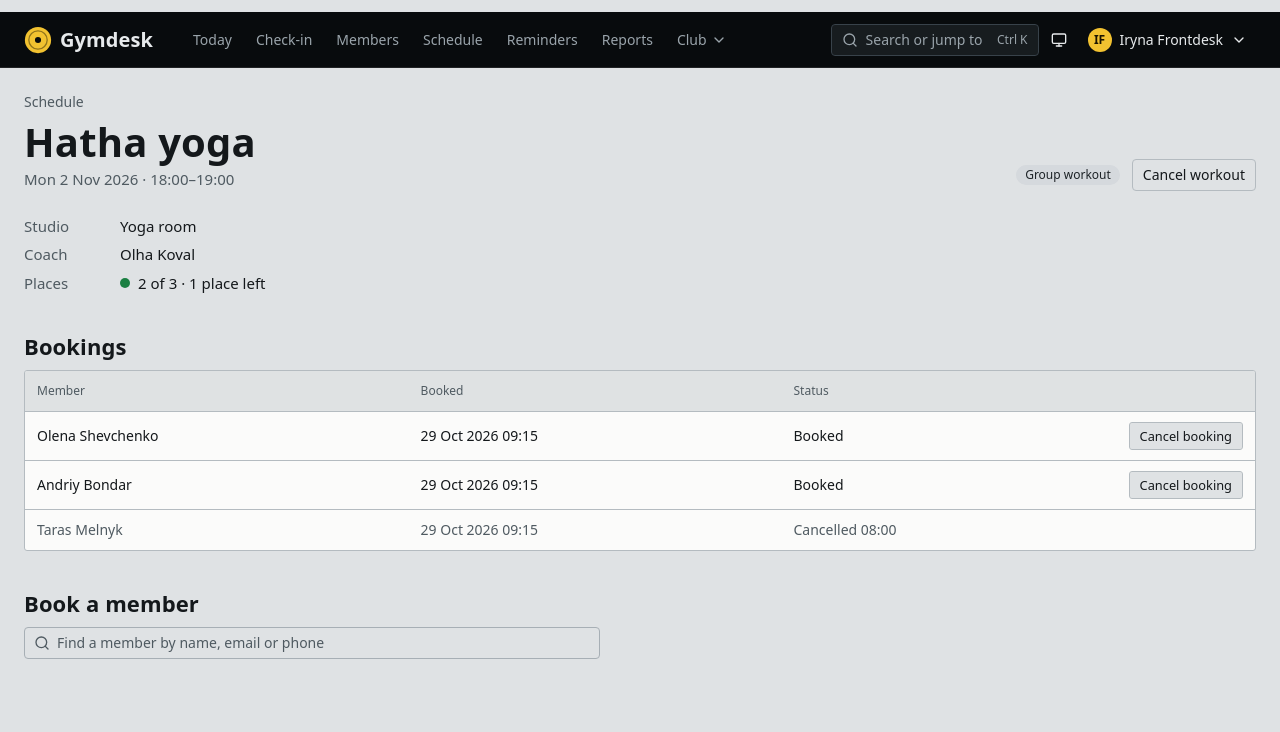
booking a member › finds a member and books them
This screenshot has width=1280, height=732.
Check: the heading "Hatha yoga" is shown, box 24,120 -> 256,164
In the search field labelled "Find a member": point(312, 643) 24,627 -> 600,659, type "kateryna"
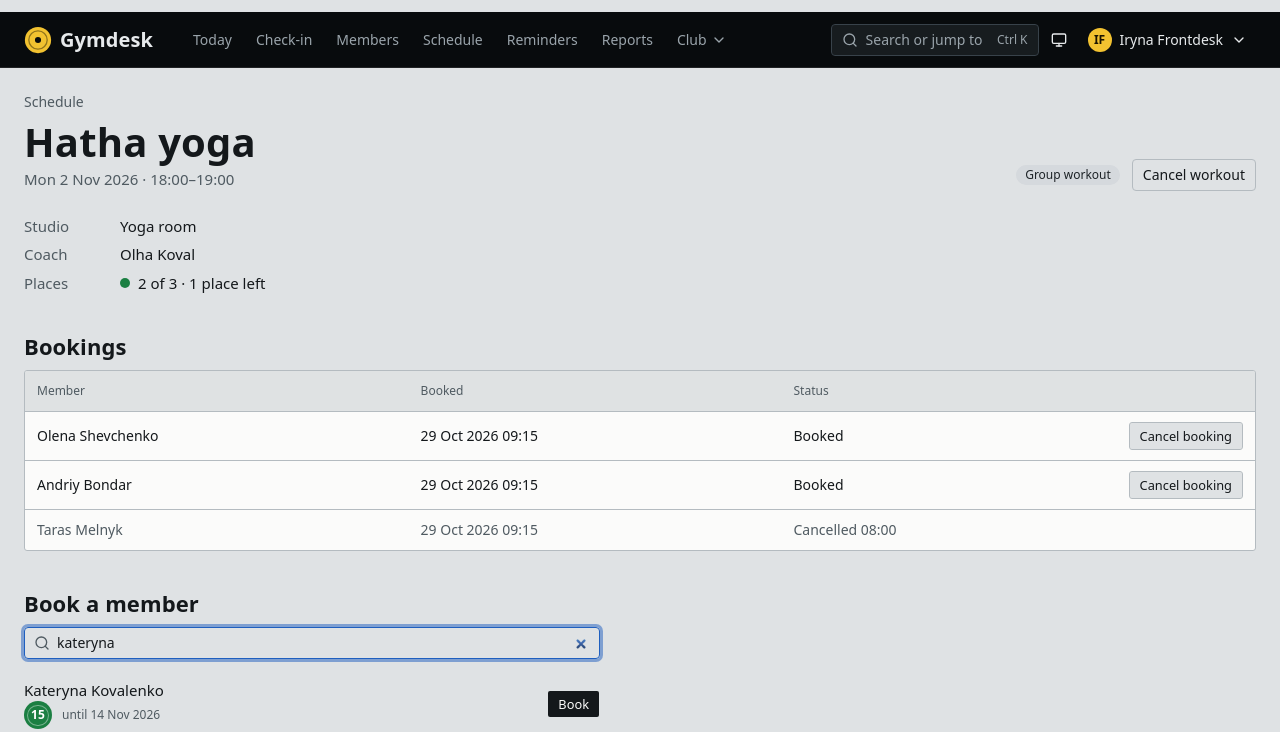
Click the button with aria-label "Book Kateryna Kovalenko": point(574, 704) 547,690 -> 600,718
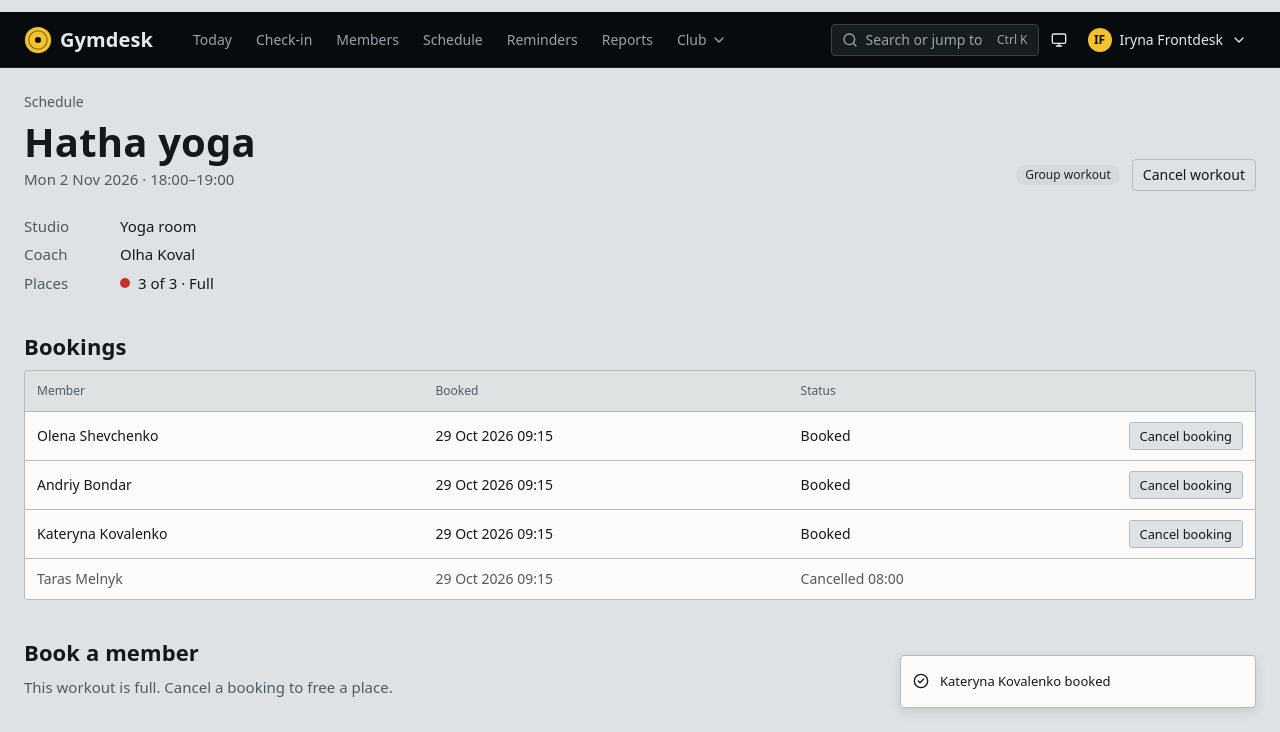
Check: the text "Kateryna Kovalenko booked" is shown, box 940,672 -> 1110,691
Check: the text "3 of 3 · Full" is shown, box 120,272 -> 214,292
Check: the text "This workout is full. Cancel a booking to free a place." is shown, box 24,677 -> 393,697
